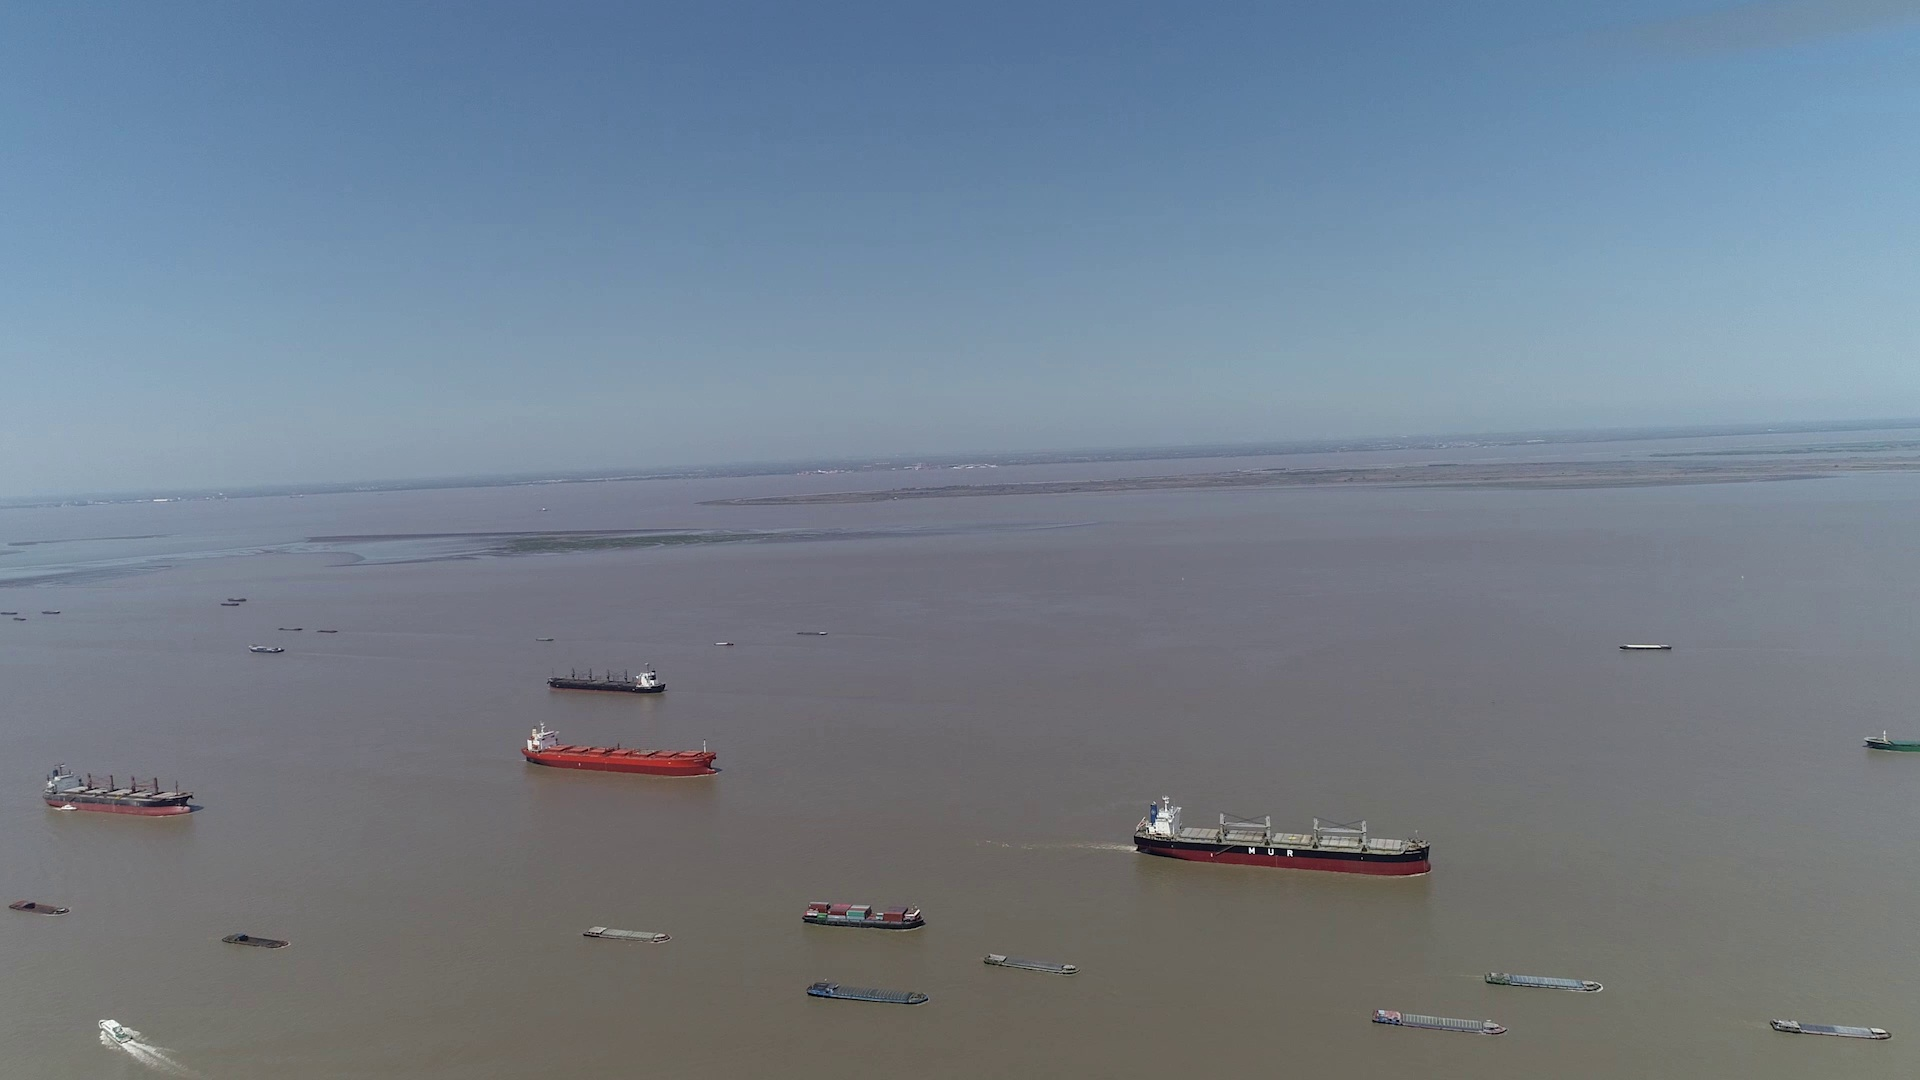ship: (1137, 795, 1428, 876), (520, 723, 715, 775), (44, 764, 196, 816), (804, 913, 928, 949), (798, 927, 924, 963), (802, 899, 924, 931), (1370, 1007, 1505, 1035), (546, 665, 666, 694), (807, 978, 930, 1004), (1768, 1017, 1891, 1040), (1482, 971, 1601, 994), (982, 952, 1077, 975), (582, 924, 671, 944), (98, 1021, 145, 1048), (1865, 729, 1919, 752), (7, 899, 69, 915), (220, 934, 287, 948), (247, 644, 284, 654), (1622, 642, 1669, 650), (0, 611, 26, 618)
